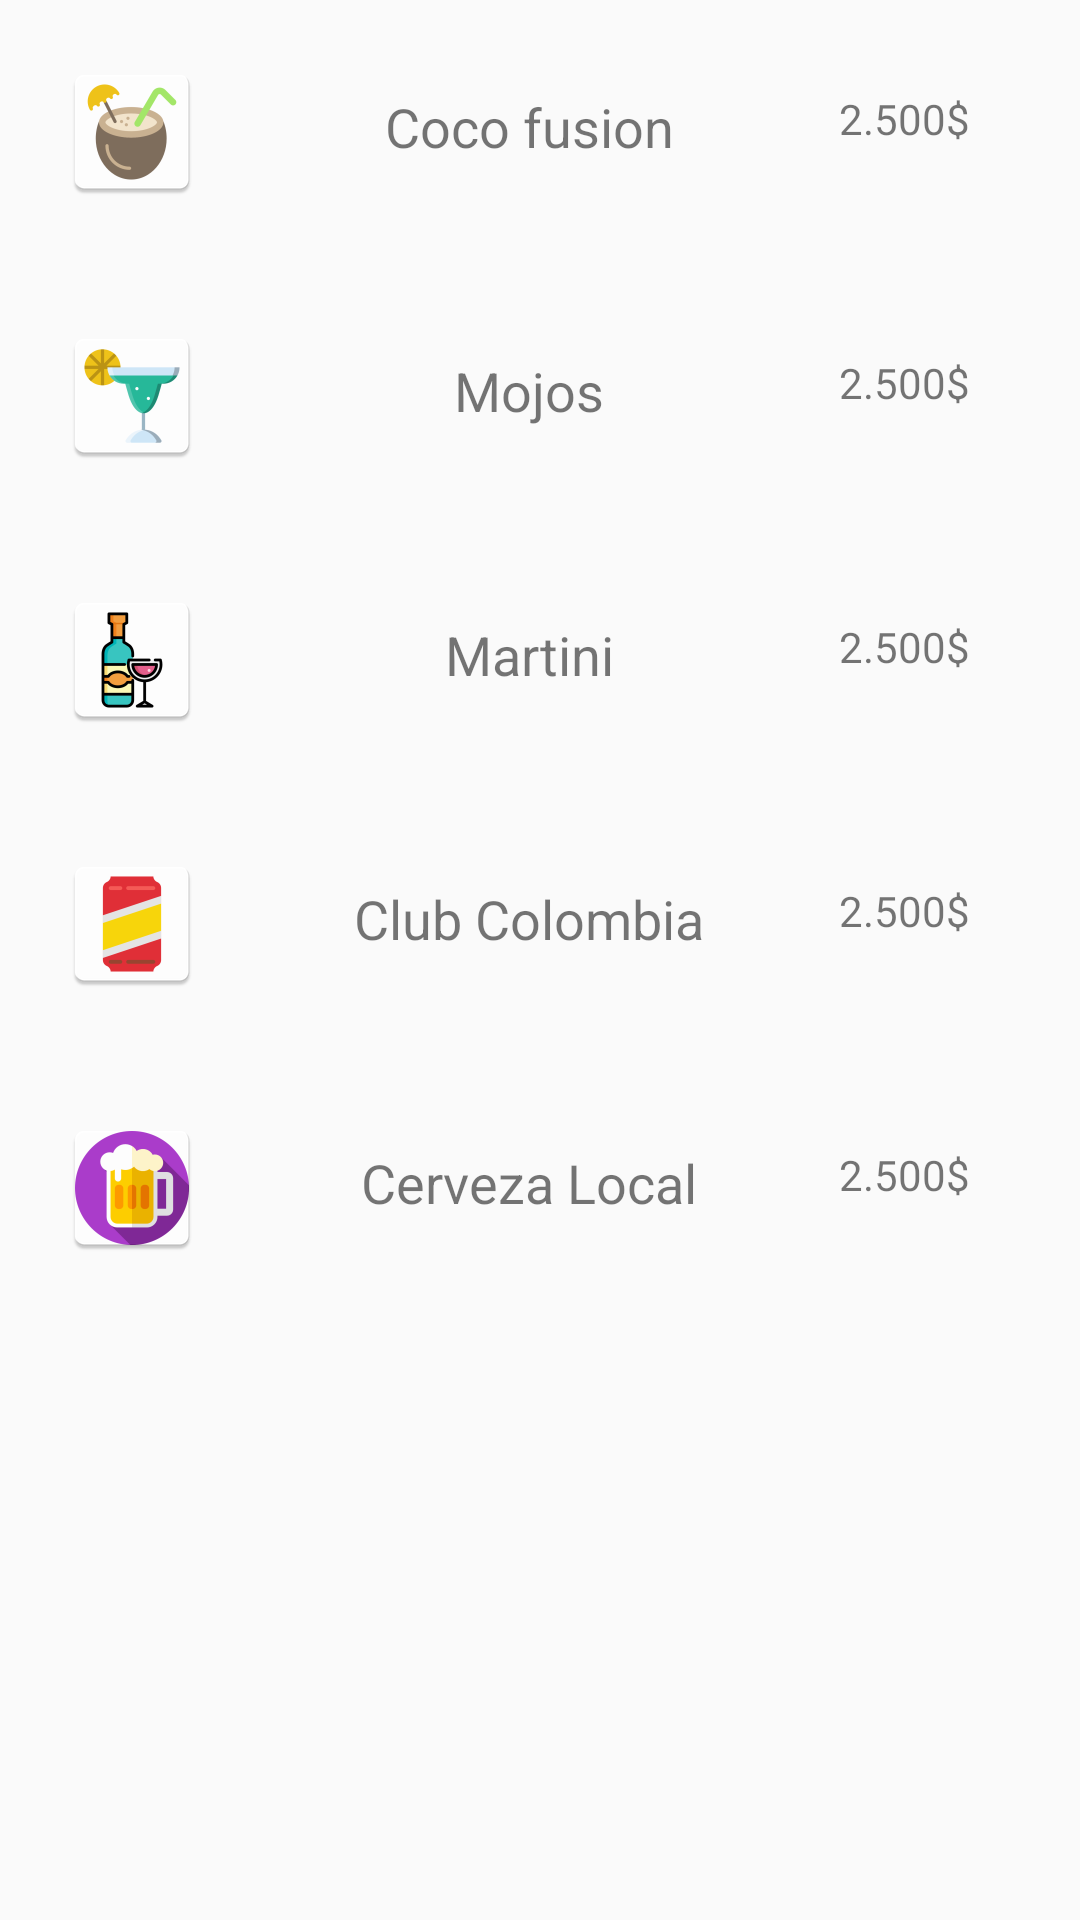

Icons on this 1080*1920 Android screen, each with its box as (x1, y1, x2, y2):
beer: (75, 1131, 190, 1249)
